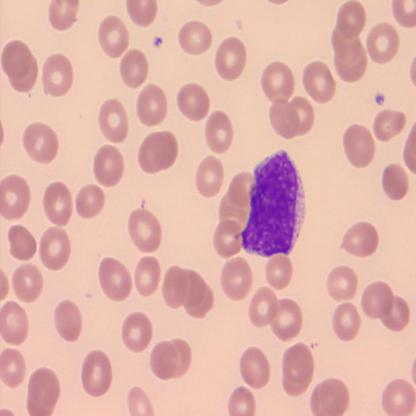Myelocyte: (244, 151, 304, 254)
